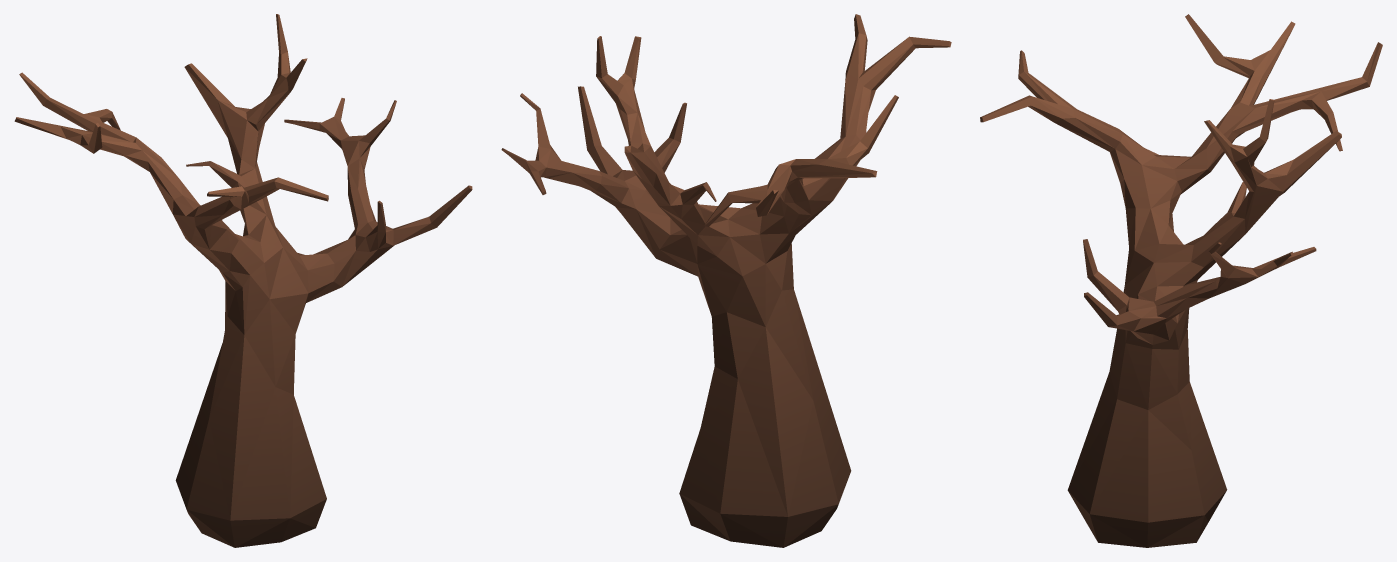
Rendered from dry tree 3.fbx.
3 renders of one model, left to right at view 1: azimuth 30°, elevation 25°; view 2: azimuth 150°, elevation 25°; view 3: azimuth 270°, elevation 25°, orthographic. The views are drawn at different scales.
Parts seen in each view (by area): view 1: dry tree 3; view 2: dry tree 3; view 3: dry tree 3.
Boxes of the visible parts, x1=… form: dry tree 3: x1=14, y1=14, x2=472, y2=547; dry tree 3: x1=501, y1=14, x2=951, y2=547; dry tree 3: x1=980, y1=14, x2=1382, y2=547.
Bounding box in the file's own units: 643 × 757 × 593.
